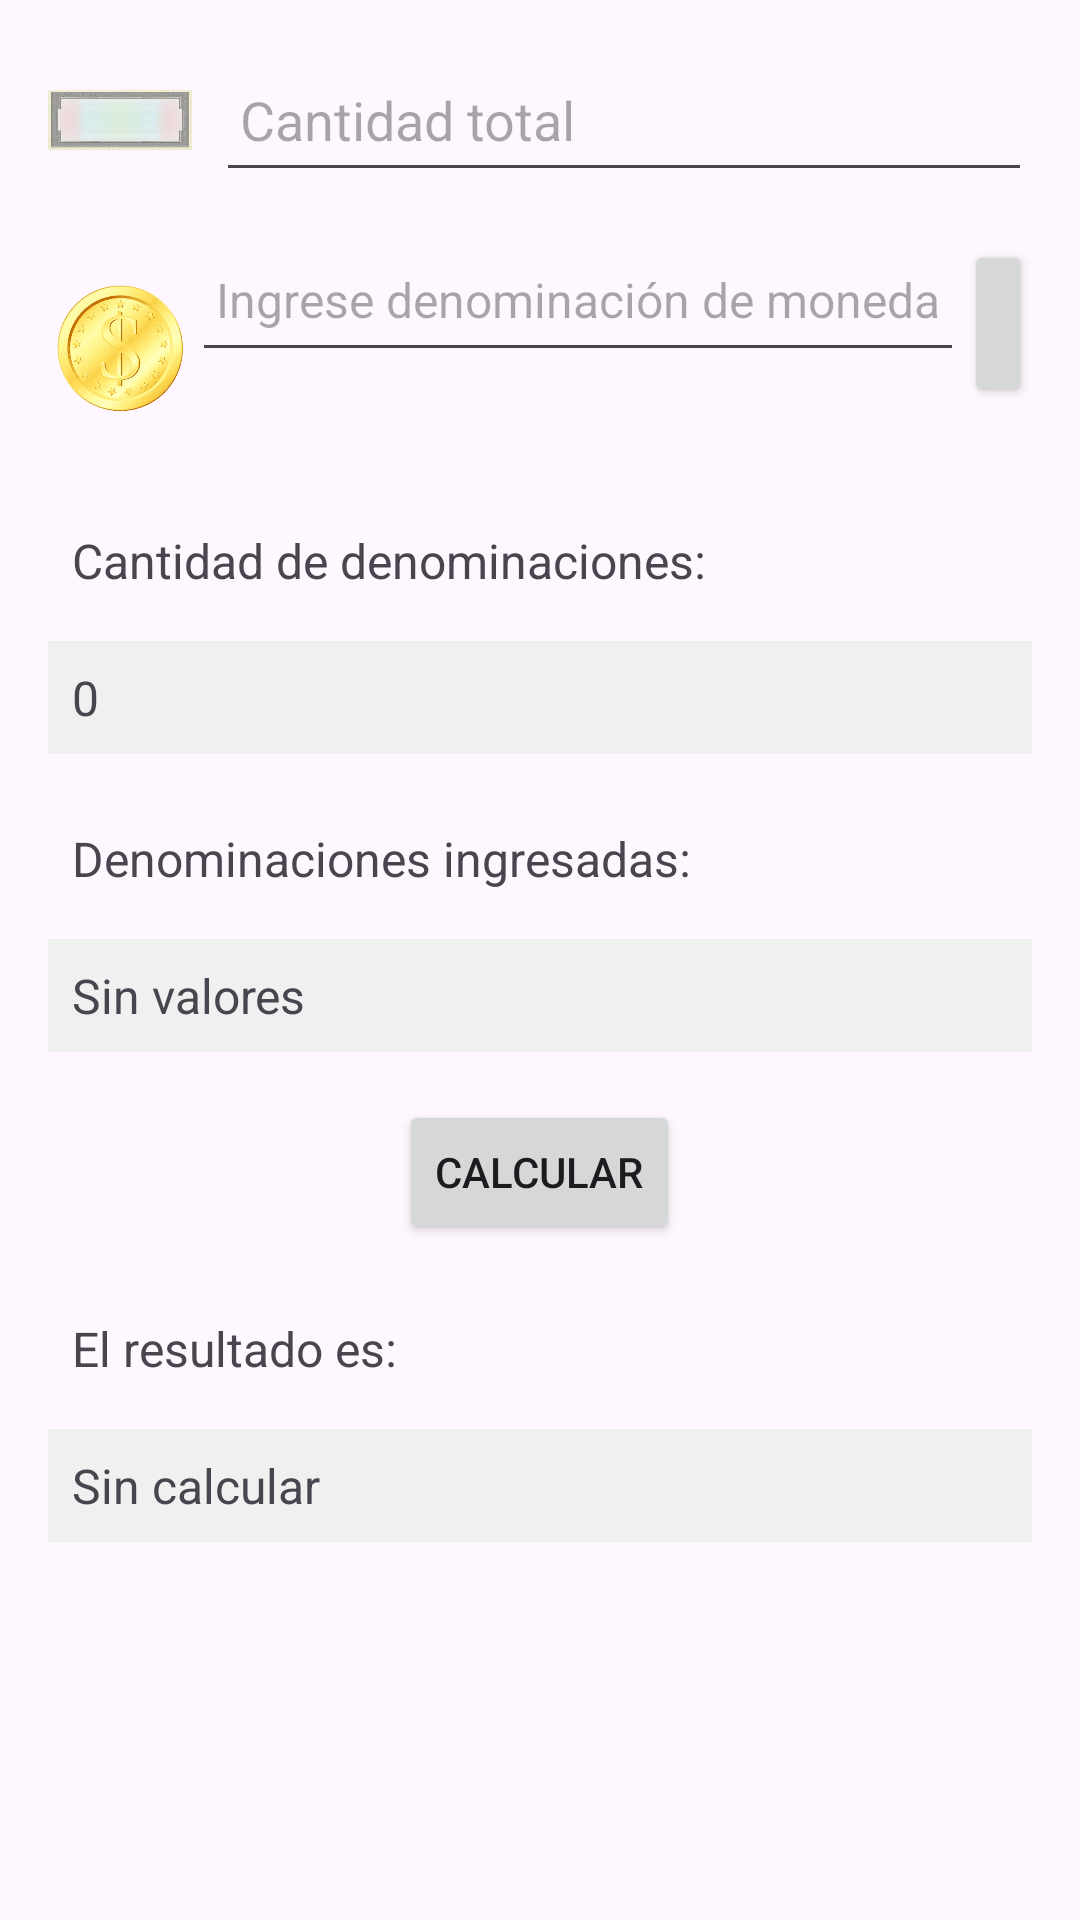

Where icons sit on this 1080w x 1920h app screen, as BBox(x1, y1, x2, y2):
totalbillete: BBox(48, 90, 192, 150)
tu moneda: BBox(57, 285, 183, 411)
